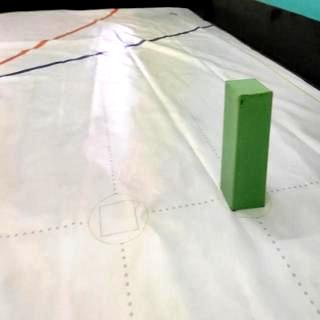greenbox: (220, 76, 274, 211)
